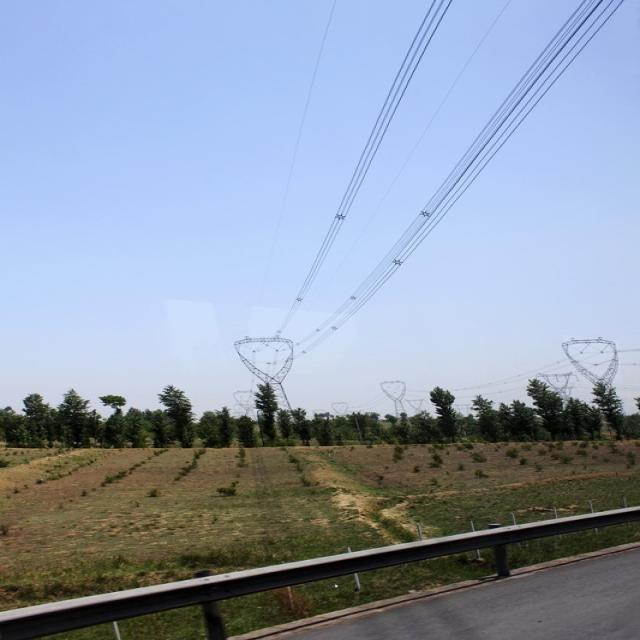non-critical vegetation: (232, 332, 305, 422), (556, 334, 627, 402), (370, 374, 406, 419)
